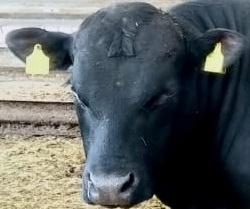muzzles: (75, 162, 156, 209)
